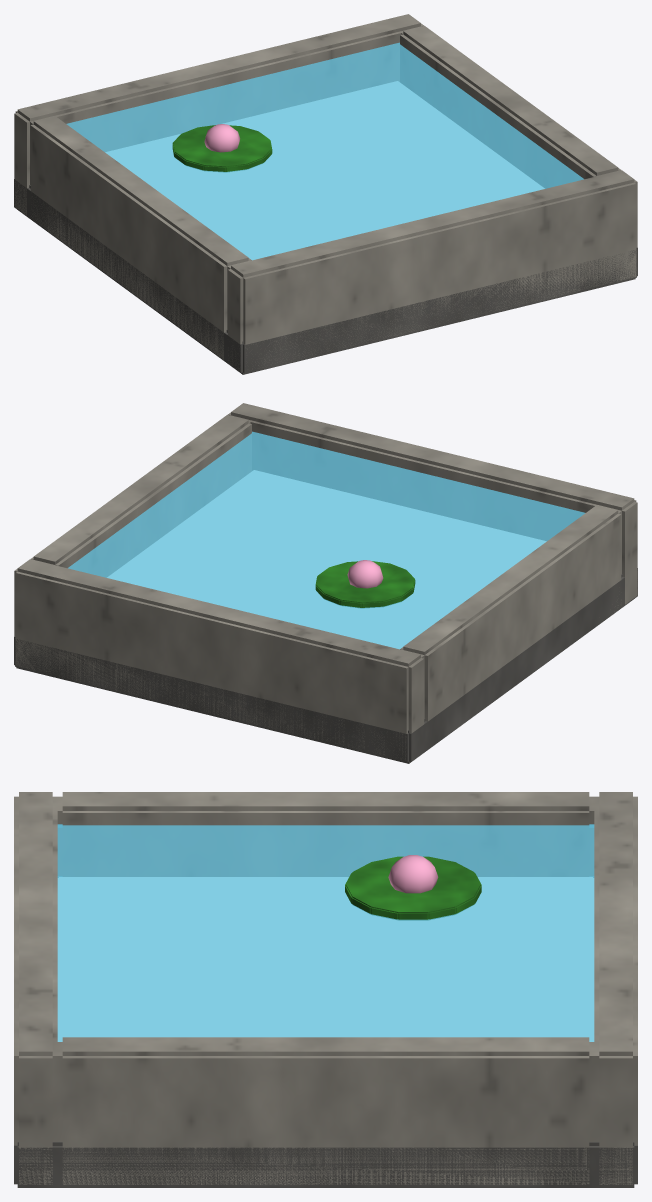
The model's file is terrain_water.glb.
3 renders of one model, top to bottom at view 1: azimuth 30°, elevation 25°; view 2: azimuth 150°, elevation 25°; view 3: azimuth 270°, elevation 25°, orthographic. The views are drawn at different scales.
Visible parts, largest first — view 1: terrain_water; view 2: terrain_water; view 3: terrain_water.
Boxes of the visible parts, x1=… form: terrain_water: x1=14, y1=14, x2=637, y2=374; terrain_water: x1=14, y1=403, x2=637, y2=763; terrain_water: x1=14, y1=792, x2=637, y2=1187.
Bounding box in the file's own units: 1 × 0.27 × 1.
6 materials, 3 textured.
